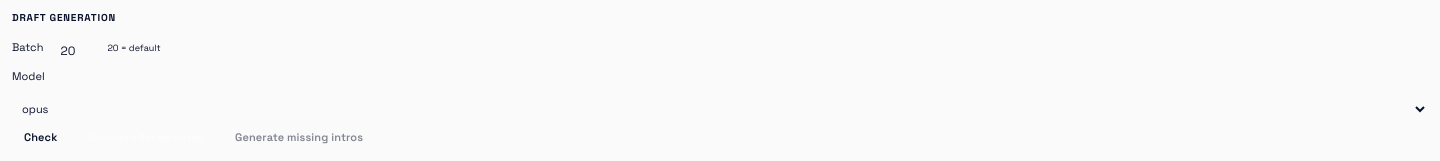
Test case: CampaignDraftGenerateCard › falls back to 20 for invalid input
Replace the text in the number field showing "20" with "-5" at (75, 51), box [49,40,101,62]
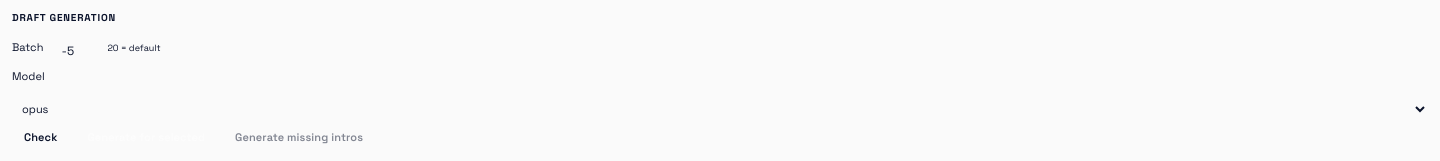
Leave the number field showing "20", box [49,40,101,62]
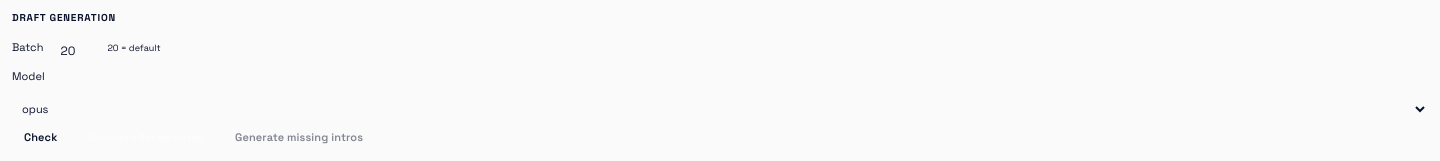
Result: the number field showing "20" is shown at [49,40,101,62]
